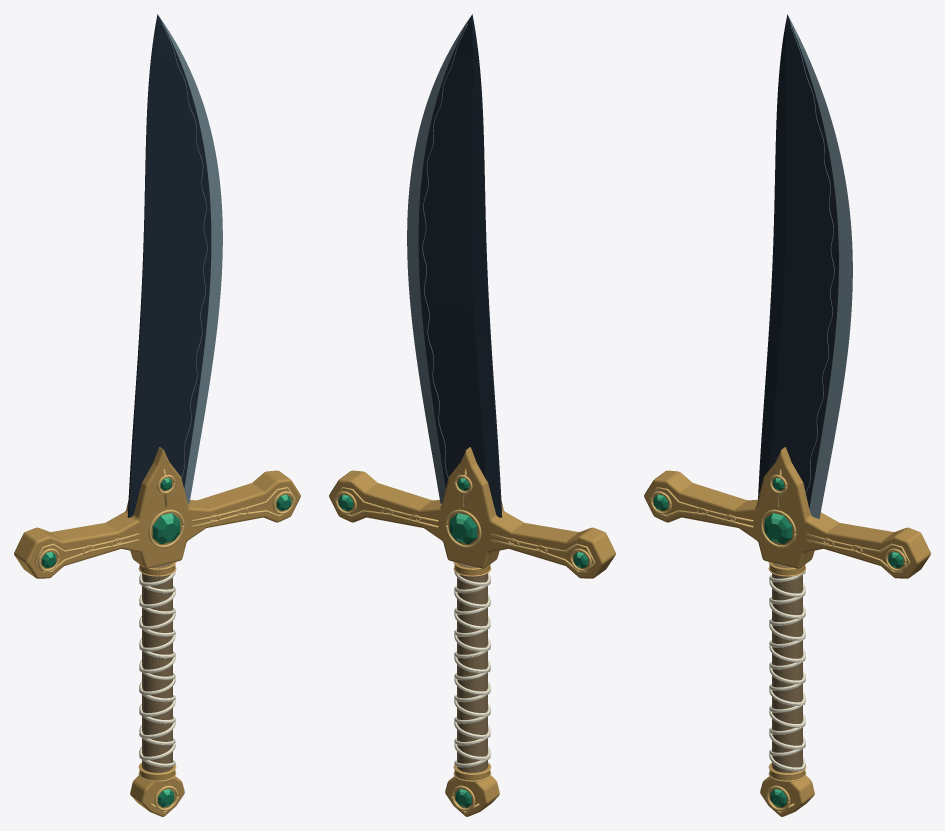
File: yoru_v2.glb
3 renders of one model, left to right at view 1: azimuth 30°, elevation 25°; view 2: azimuth 150°, elevation 25°; view 3: azimuth 330°, elevation 25°, orthographic.
Visible parts, largest first — view 1: Blade, Guard, Grip, Wrap, Gems, Pommel, Edge; view 2: Blade, Guard, Grip, Wrap, Gems, Pommel, Edge; view 3: Blade, Guard, Grip, Wrap, Gems, Pommel, Edge.
Boxes of the visible parts, x1,y1,x2,y2 form: Blade: [127, 14, 222, 517]; Guard: [14, 447, 300, 810]; Grip: [138, 562, 176, 781]; Wrap: [139, 571, 175, 767]; Gems: [41, 478, 291, 807]; Pommel: [130, 775, 184, 816]; Edge: [162, 23, 207, 478]; Blade: [407, 14, 502, 517]; Guard: [329, 447, 615, 810]; Grip: [453, 562, 491, 781]; Wrap: [454, 571, 490, 767]; Gems: [338, 478, 588, 807]; Pommel: [445, 775, 499, 816]; Edge: [422, 23, 467, 478]; Blade: [758, 14, 852, 519]; Guard: [644, 447, 930, 810]; Grip: [768, 562, 806, 781]; Wrap: [769, 571, 805, 771]; Gems: [653, 478, 903, 807]; Pommel: [760, 775, 814, 816]; Edge: [790, 25, 834, 493].
Size of the model in its own units: 0.7765 by 2.16 by 0.124.
